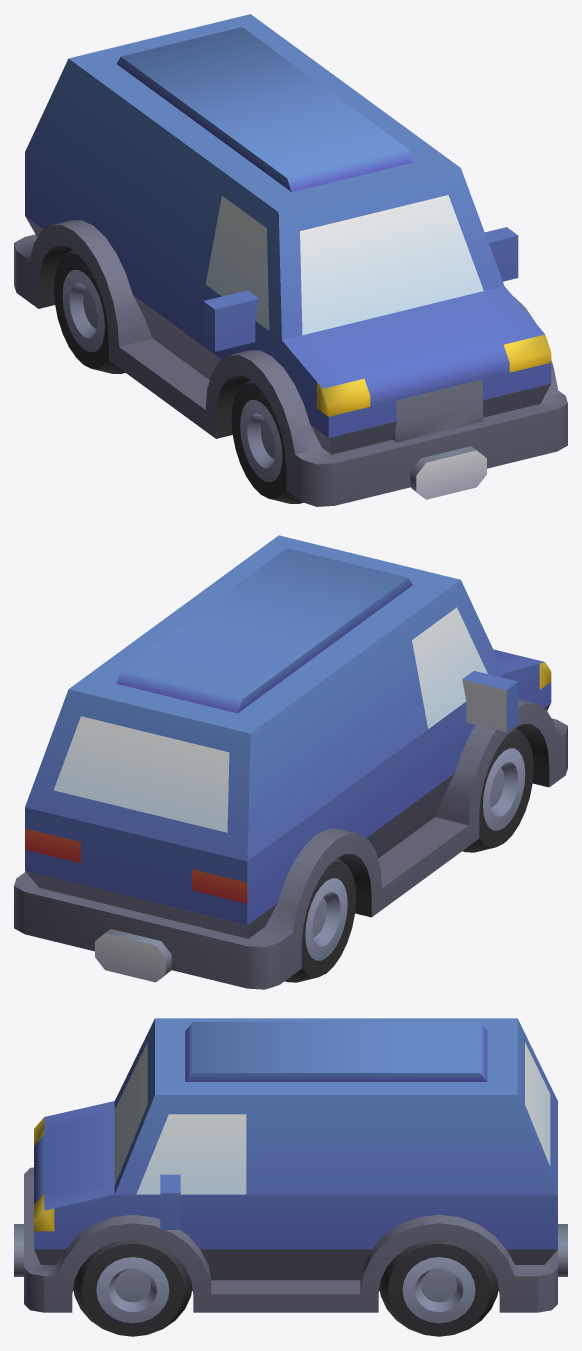
Rendered from van.glb.
3 views of the same model, one above another, from view 1: azimuth 30°, elevation 25°; view 2: azimuth 150°, elevation 25°; view 3: azimuth 270°, elevation 25° (orthographic). The views are drawn at different scales.
Visible parts, largest first — view 1: wheel-front-right; view 2: wheel-front-right; view 3: wheel-front-right.
Boxes of the visible parts, bbox=[...] form: wheel-front-right: bbox=[14, 14, 567, 506]; wheel-front-right: bbox=[14, 535, 567, 989]; wheel-front-right: bbox=[14, 1018, 567, 1336].
Size of the model in its own units: 1.5 by 1.35 by 2.75.
Materials: 1 (1 with a texture image).
